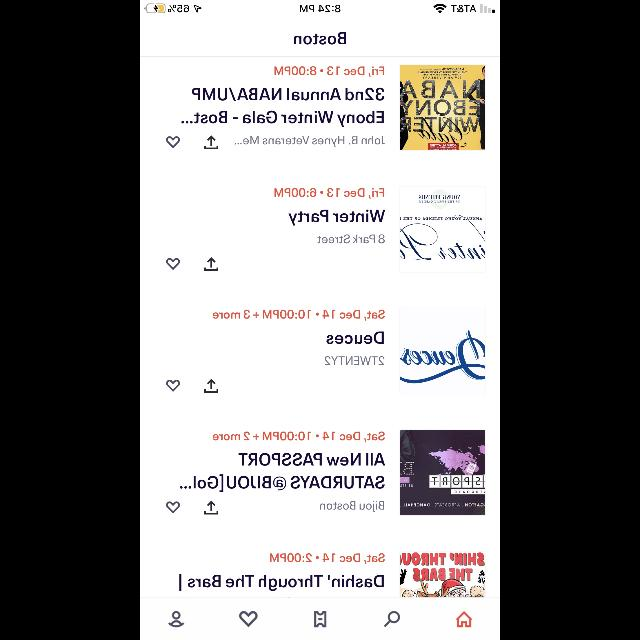icon: (238, 611, 258, 627), (456, 610, 472, 628), (168, 610, 184, 628), (384, 611, 400, 627), (314, 610, 326, 628), (204, 136, 218, 150), (204, 257, 218, 271), (204, 379, 218, 393), (204, 501, 218, 515), (166, 137, 180, 149), (166, 258, 180, 270), (166, 380, 180, 392), (166, 502, 180, 514)
image: (398, 185, 486, 272), (399, 65, 485, 152), (399, 430, 485, 516), (399, 308, 485, 394), (399, 551, 485, 597)
text: (180, 452, 384, 492), (182, 88, 384, 126), (179, 574, 383, 590), (213, 310, 385, 320), (213, 432, 385, 442), (288, 210, 386, 226), (235, 136, 385, 146), (274, 66, 384, 78), (274, 188, 384, 200), (270, 554, 384, 564), (294, 32, 346, 46), (326, 332, 384, 344), (320, 502, 384, 512), (324, 356, 384, 366), (318, 234, 384, 243)
uppertaskbar: (140, 0, 500, 14)
